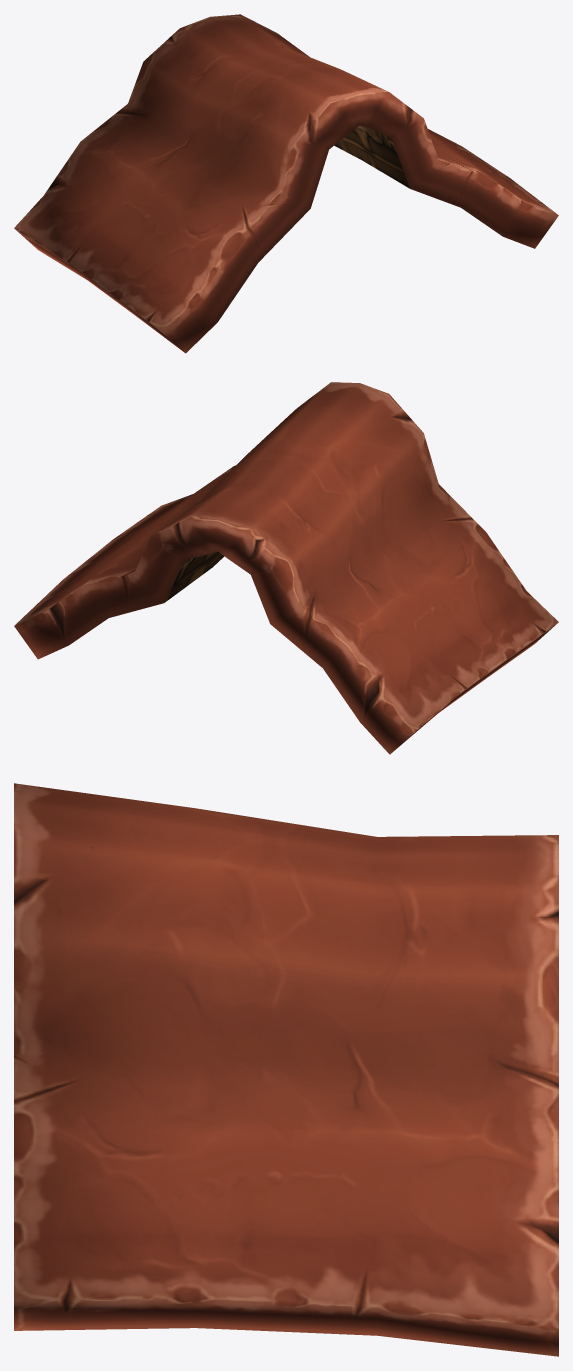
File: roof_ridge5.fbx
The picture shows the model from 3 angles, top to bottom: view 1: azimuth 30°, elevation 25°; view 2: azimuth 150°, elevation 25°; view 3: azimuth 270°, elevation 25°; orthographic projection. The views are drawn at different scales.
Visible parts, largest first — view 1: roof_ridge5; view 2: roof_ridge5; view 3: roof_ridge5.
Part boxes in pixels (bbox=[...]): roof_ridge5: bbox=[14, 14, 558, 353]; roof_ridge5: bbox=[14, 382, 558, 754]; roof_ridge5: bbox=[14, 783, 558, 1356].
Bounding box in the file's own units: 84.44 × 44.68 × 53.58.
